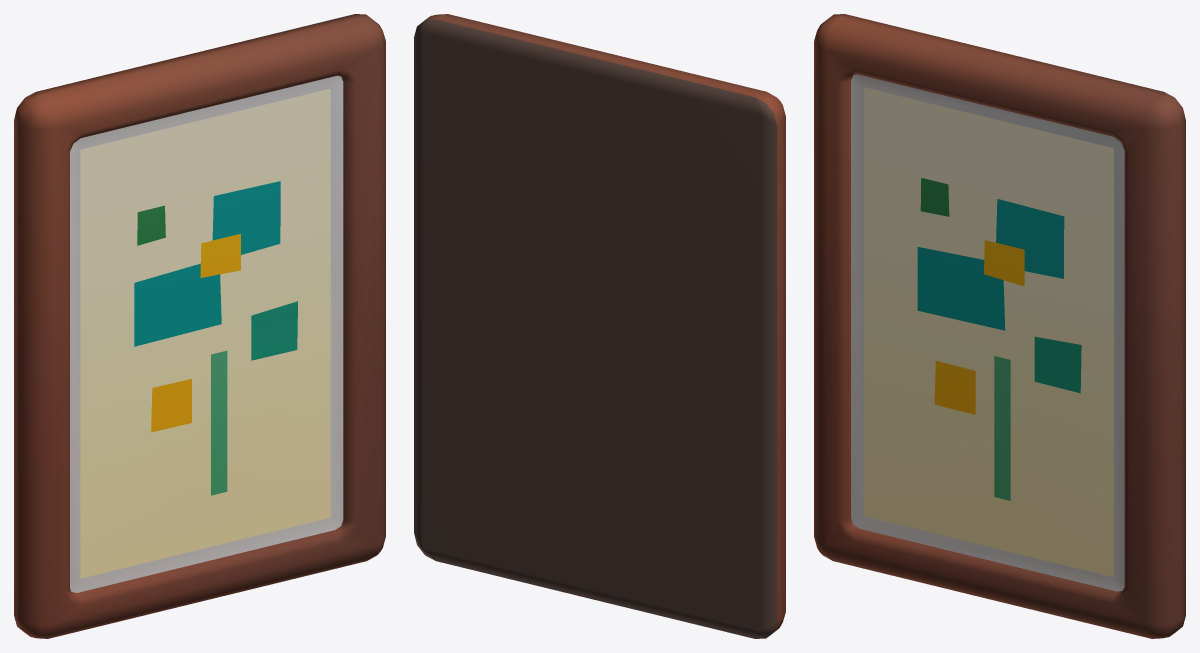
Rendered from Picture_08.glb.
3 views of the same model, side by side, from view 1: azimuth 30°, elevation 25°; view 2: azimuth 150°, elevation 25°; view 3: azimuth 330°, elevation 25° (orthographic).
Visible parts, largest first — view 1: Picture_08; view 2: Picture_08; view 3: Picture_08.
Part boxes in pixels (x1,y1,x2,y2): Picture_08: (14,14,385,638); Picture_08: (414,14,785,638); Picture_08: (814,14,1185,638).
Bounding box in the file's own units: 0.5673 × 0.8087 × 0.0585.
Materials: 1 (1 with a texture image).
